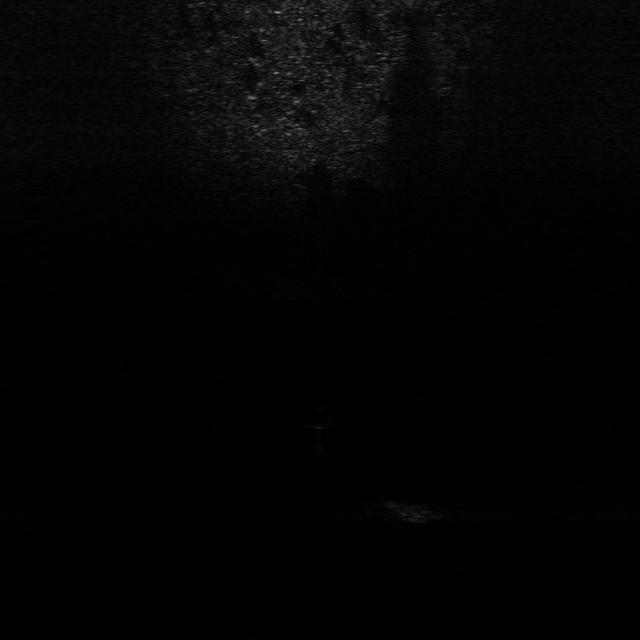ball: (304, 404, 334, 429)
metal bucket: (376, 498, 448, 524)
